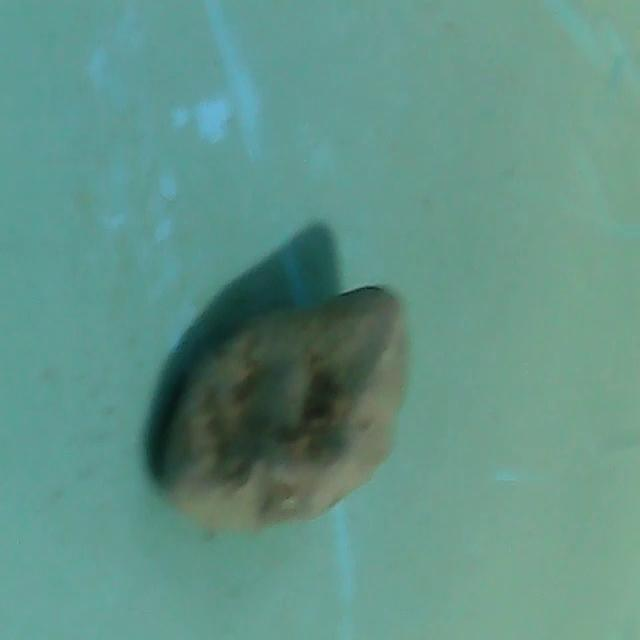rock: (146, 276, 417, 546)
